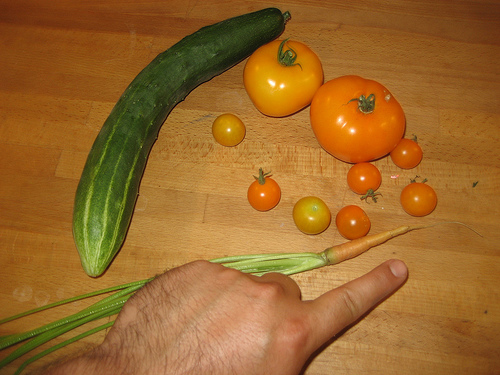cucumber: (68, 6, 293, 279)
